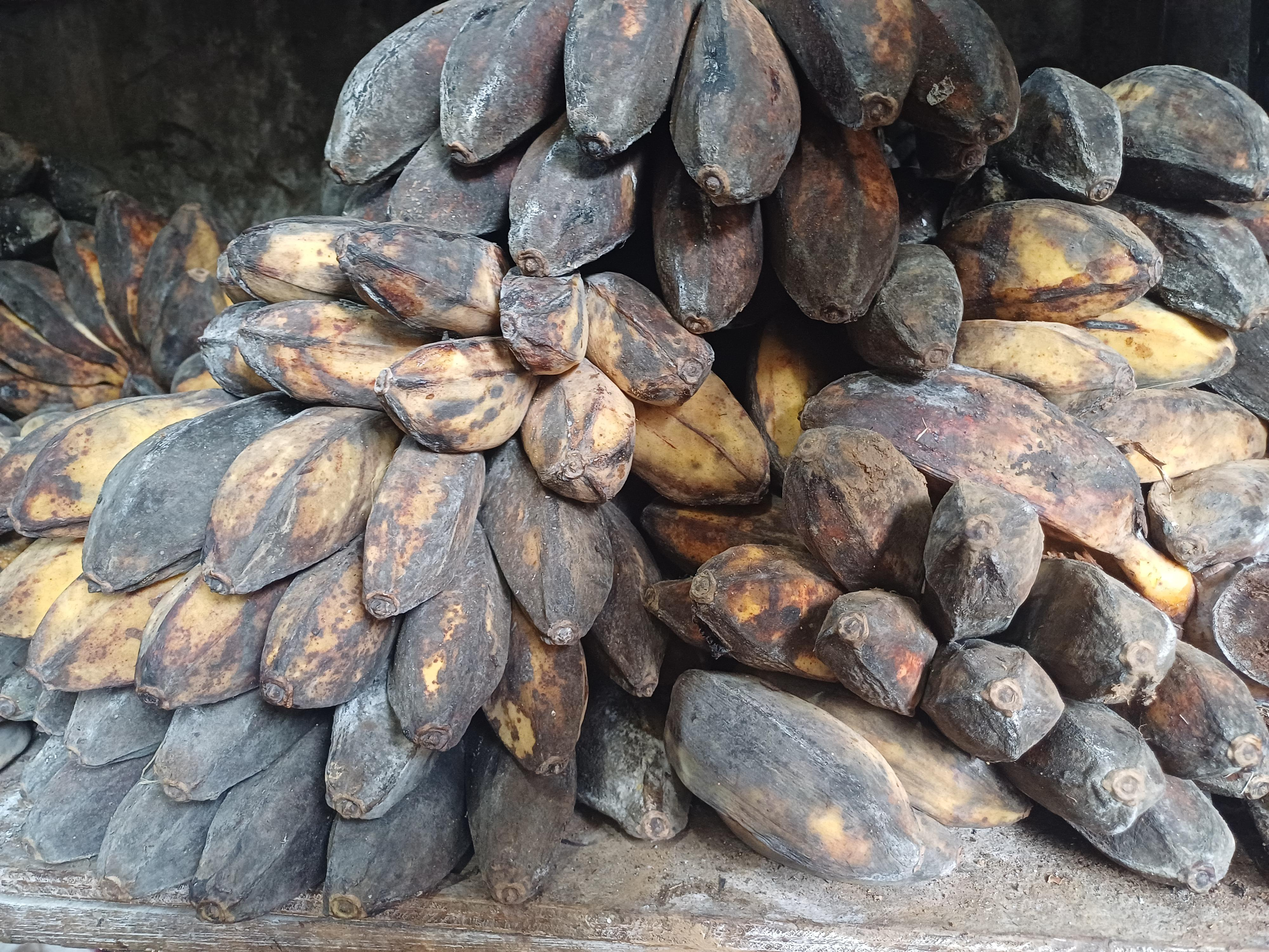overripe: (642, 427, 1269, 890), (0, 391, 664, 775), (325, 0, 1019, 333), (0, 661, 689, 922), (943, 65, 1269, 331), (0, 189, 239, 416)
ripe: (200, 217, 769, 505), (844, 199, 1236, 434)
